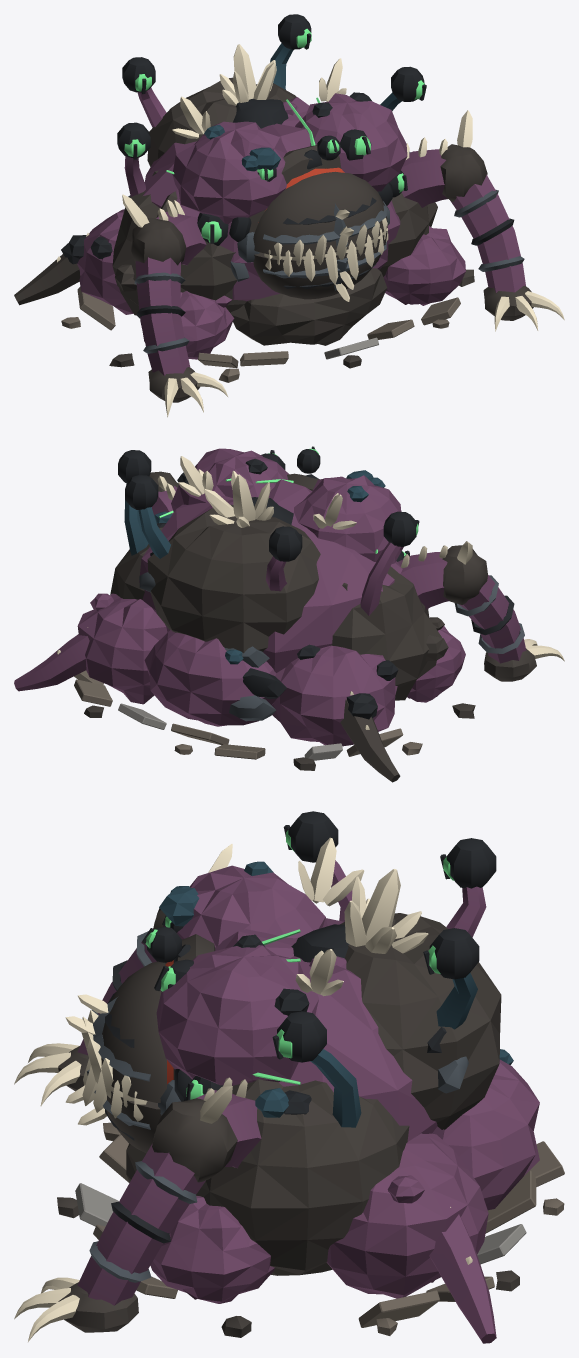
Rendered from Boss_Source.fbx.
3 views of the same model, one above another, from view 1: azimuth 30°, elevation 25°; view 2: azimuth 150°, elevation 25°; view 3: azimuth 270°, elevation 25° (orthographic). The views are drawn at different scales.
Parts seen in each view (by area): view 1: Body, LidUpper, RightFore, LeftFore, LidLower, LeftArm, StalkGlow, RightBack, RightArm; view 2: Body, RightFore, LeftBack, RightArm, RightBack, LeftArm; view 3: Body, LeftFore, LidUpper, LeftBack, RightFore, LidLower, LeftArm, StalkGlow.
Boxes of the visible parts, x1,y1,x2,y2 form: Body: (61, 14, 474, 382); LidUpper: (253, 171, 388, 284); RightFore: (122, 194, 227, 417); LeftFore: (440, 110, 564, 331); LidLower: (253, 218, 387, 301); LeftArm: (401, 137, 447, 207); StalkGlow: (124, 28, 425, 242); RightBack: (14, 233, 89, 305); RightArm: (156, 200, 206, 265); Body: (74, 446, 475, 770); RightFore: (442, 541, 564, 681); LeftBack: (14, 627, 89, 691); RightArm: (398, 545, 449, 609); RightBack: (340, 691, 400, 782); LeftArm: (152, 476, 177, 515); Body: (57, 811, 564, 1337); LeftFore: (14, 1086, 237, 1341); LidUpper: (65, 961, 166, 1121); LeftBack: (429, 1207, 496, 1343); RightFore: (14, 844, 232, 1106); LidLower: (65, 1010, 161, 1152); LeftArm: (196, 1077, 261, 1168); StalkGlow: (145, 830, 454, 1099).
Bounding box in the file's own units: 23.48 × 13.87 × 19.57.
